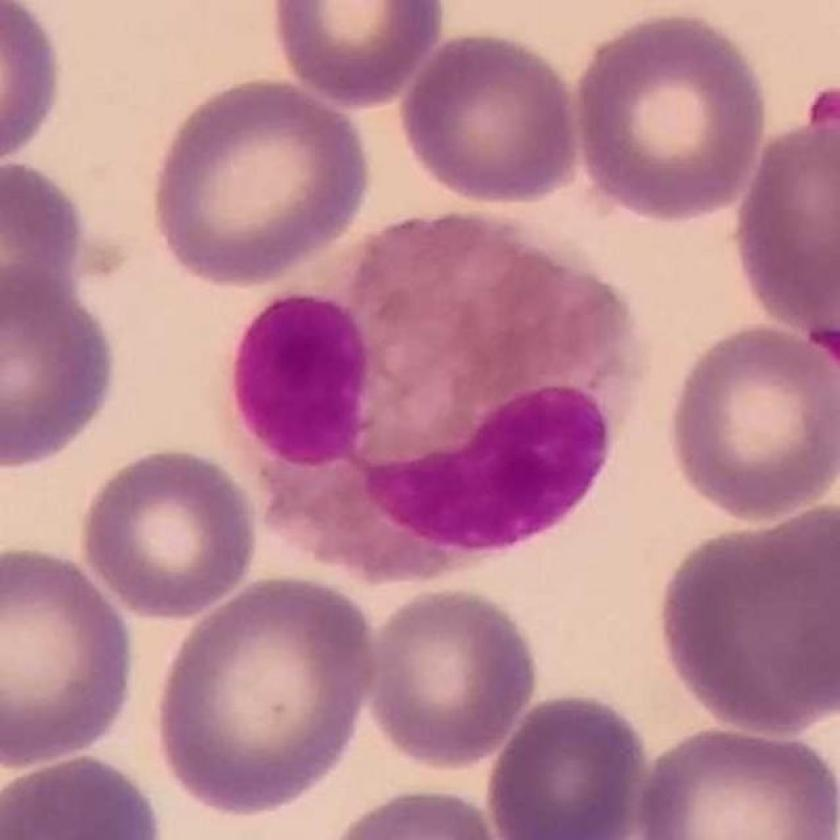eosinophil: (227, 213, 648, 587)
